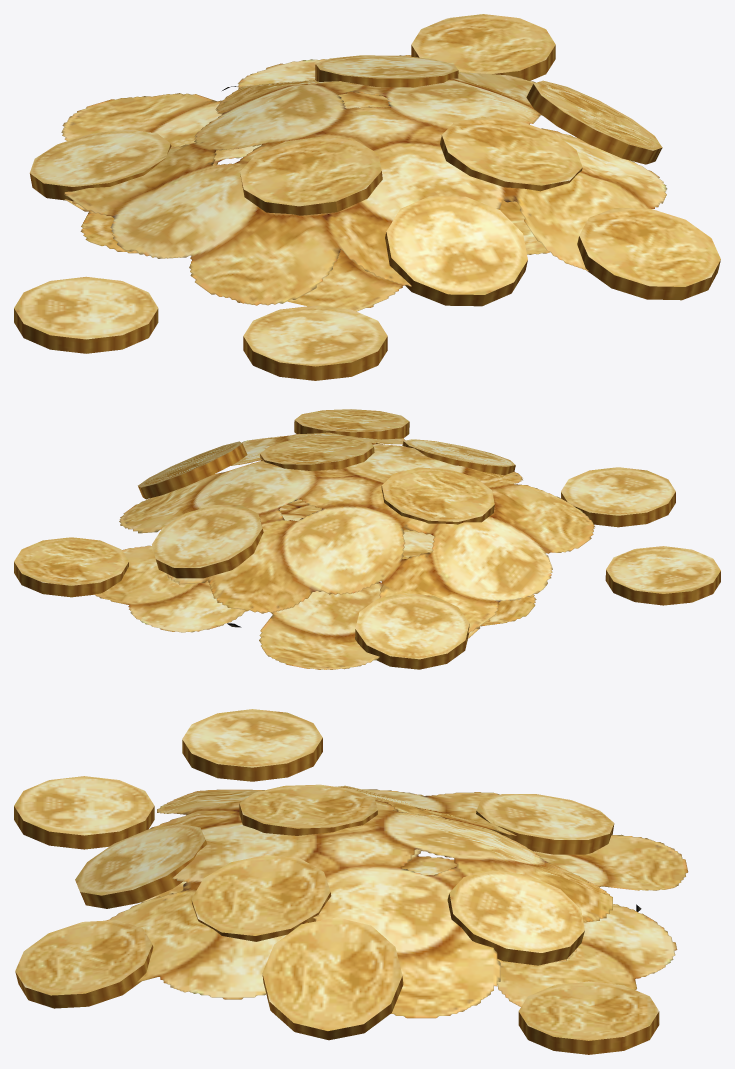
3 renders of one model, top to bottom at view 1: azimuth 30°, elevation 25°; view 2: azimuth 150°, elevation 25°; view 3: azimuth 270°, elevation 25°, orthographic. The views are drawn at different scales.
Visible parts, largest first — view 1: e_nb_coinplan1_normal, e_nb_coinplan2_normal, e_nb_coin4_normal, e_nb_coin7_normal, e_nb_coin9_normal, e_nb_coin2_normal, e_nb_coin8_normal, e_nb_coin5_normal, e_nb_coin1_normal, e_nb_coin6_normal, e_nb_coin3_normal, e_nb_coin10_normal; view 2: e_nb_coinplan1_normal, e_nb_coinplan2_normal, e_nb_coin6_normal, e_nb_coin10_normal, e_nb_coin9_normal, e_nb_coin1_normal, e_nb_coin8_normal, e_nb_coin2_normal, e_nb_coin5_normal, e_nb_coin7_normal, e_nb_coin3_normal, e_nb_coin4_normal; view 3: e_nb_coinplan1_normal, e_nb_coinplan2_normal, e_nb_coin3_normal, e_nb_coin10_normal, e_nb_coin7_normal, e_nb_coin5_normal, e_nb_coin1_normal, e_nb_coin9_normal, e_nb_coin8_normal, e_nb_coin4_normal, e_nb_coin6_normal, e_nb_coin2_normal.
Part boxes in pixels (x1,y1,x2,y2): e_nb_coinplan1_normal: (64,72,667,305); e_nb_coinplan2_normal: (61,55,549,311); e_nb_coin4_normal: (385,196,527,306); e_nb_coin7_normal: (577,208,720,300); e_nb_coin9_normal: (14,276,158,353); e_nb_coin2_normal: (240,136,382,215); e_nb_coin8_normal: (243,305,387,380); e_nb_coin5_normal: (440,117,582,191); e_nb_coin1_normal: (411,14,555,80); e_nb_coin6_normal: (29,129,171,201); e_nb_coin3_normal: (526,80,662,164); e_nb_coin10_normal: (315,55,458,91); e_nb_coinplan1_normal: (119,432,594,632); e_nb_coinplan2_normal: (93,499,536,669); e_nb_coin6_normal: (355,593,469,669); e_nb_coin10_normal: (152,505,263,578); e_nb_coin9_normal: (605,546,720,605); e_nb_coin1_normal: (14,537,128,597); e_nb_coin8_normal: (561,467,675,527); e_nb_coin2_normal: (381,467,494,524); e_nb_coin5_normal: (260,435,374,470); e_nb_coin7_normal: (294,409,409,439); e_nb_coin3_normal: (138,441,247,499); e_nb_coin4_normal: (402,439,515,475); e_nb_coinplan1_normal: (106,785,641,1018); e_nb_coinplan2_normal: (141,794,688,1006); e_nb_coin3_normal: (262,917,403,1040); e_nb_coin10_normal: (447,870,584,965); e_nb_coin7_normal: (15,920,153,1008); e_nb_coin5_normal: (191,855,331,941); e_nb_coin1_normal: (518,981,659,1054); e_nb_coin9_normal: (182,709,322,781); e_nb_coin8_normal: (14,776,154,849); e_nb_coin4_normal: (75,824,207,908); e_nb_coin6_normal: (476,794,614,854); e_nb_coin2_normal: (239,784,377,835).
Bounding box in the file's own units: 41.92 × 5.11 × 37.92.
12 materials, 12 textured.
